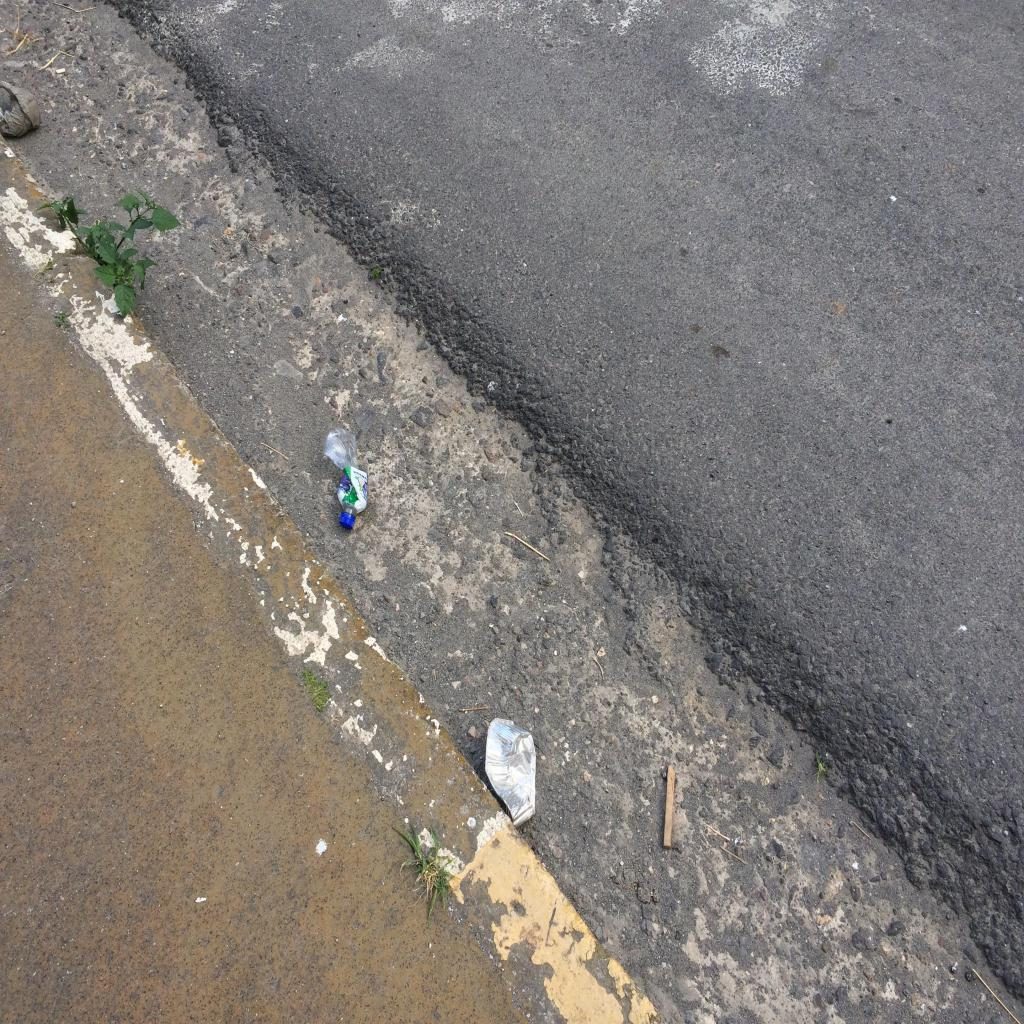Aluminium foil: (486, 717, 536, 827)
Cigarette: (56, 66, 66, 74)
Clear plastic bottle: (323, 428, 367, 529)
Plastic bottle cap: (339, 516, 355, 530)
